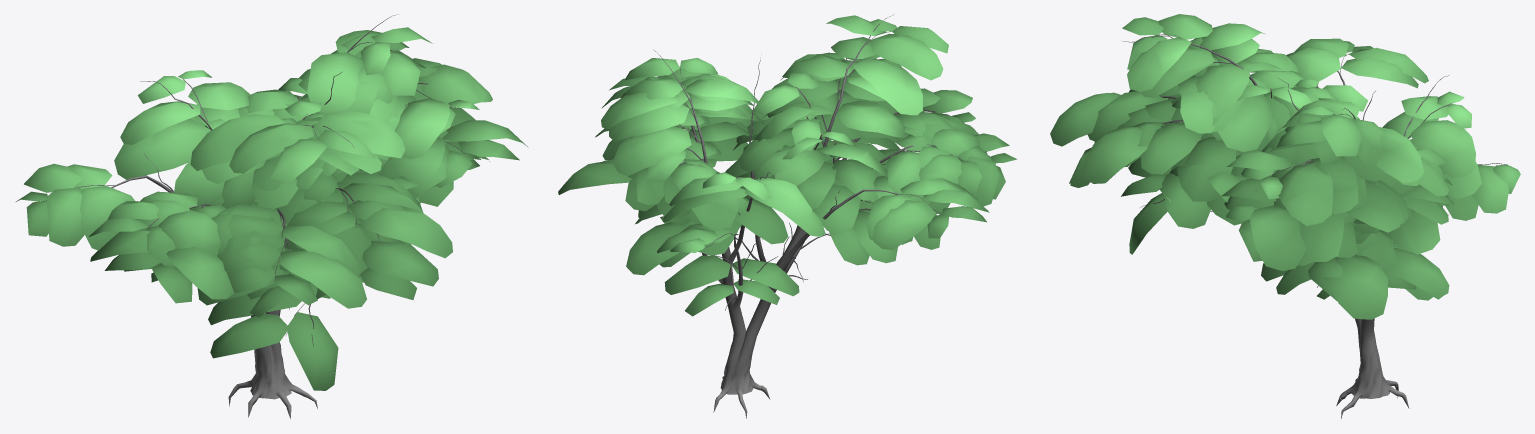
The model's file is SM_tree_acacia_A.gltf.
3 views of the same model, side by side, from view 1: azimuth 30°, elevation 25°; view 2: azimuth 150°, elevation 25°; view 3: azimuth 270°, elevation 25° (orthographic). The views are drawn at different scales.
Visible parts, largest first — view 1: SM_tree_acacia_A; view 2: SM_tree_acacia_A; view 3: SM_tree_acacia_A.
Part boxes in pixels (bbox=[...]): SM_tree_acacia_A: bbox=[16, 14, 528, 418]; SM_tree_acacia_A: bbox=[558, 14, 1017, 418]; SM_tree_acacia_A: bbox=[1050, 14, 1520, 418].
Size of the model in its own units: 9.21 by 7 by 8.44.
